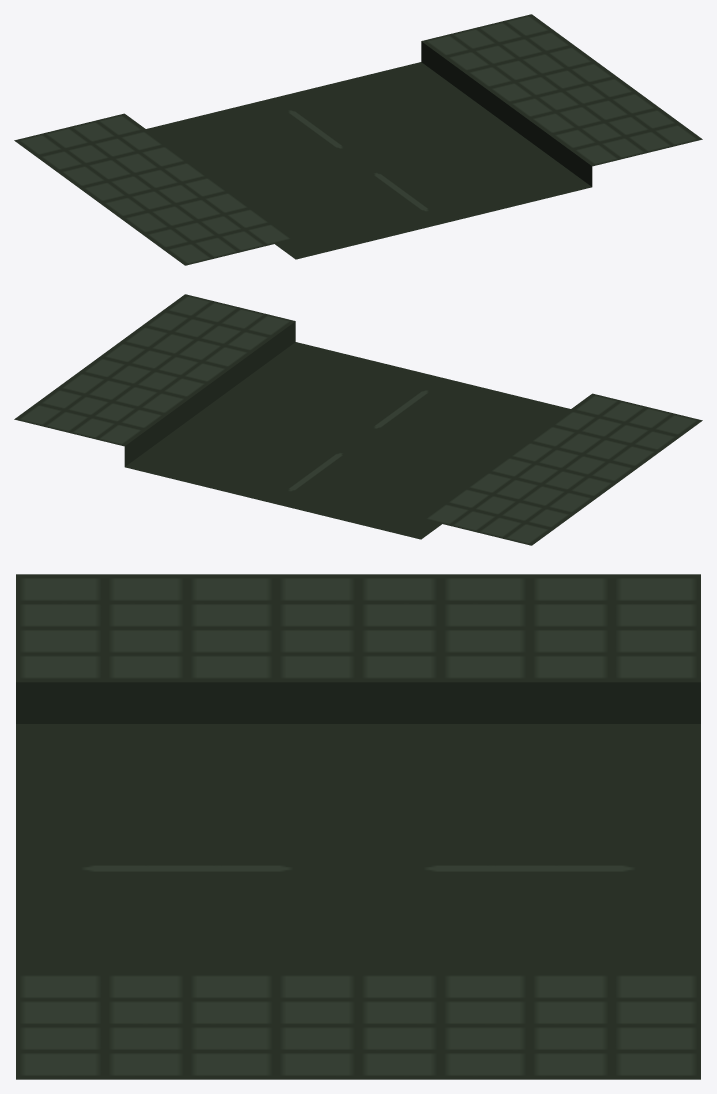
The model's file is ZLATA_TRY.fbx.
3 views of the same model, one above another, from view 1: azimuth 30°, elevation 25°; view 2: azimuth 150°, elevation 25°; view 3: azimuth 270°, elevation 25° (orthographic). The views are drawn at different scales.
Parts seen in each view (by area): view 1: pPlane6; view 2: pPlane6; view 3: pPlane6.
Boxes of the visible parts, bbox=[...] form: pPlane6: bbox=[14, 14, 702, 265]; pPlane6: bbox=[14, 294, 702, 545]; pPlane6: bbox=[16, 574, 700, 1079].
Bounding box in the file's own units: 1.75 × 0.067 × 1.
Materials: 3 (3 with a texture image).
